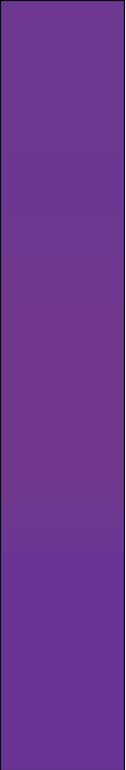safe: (8, 8, 119, 765)
